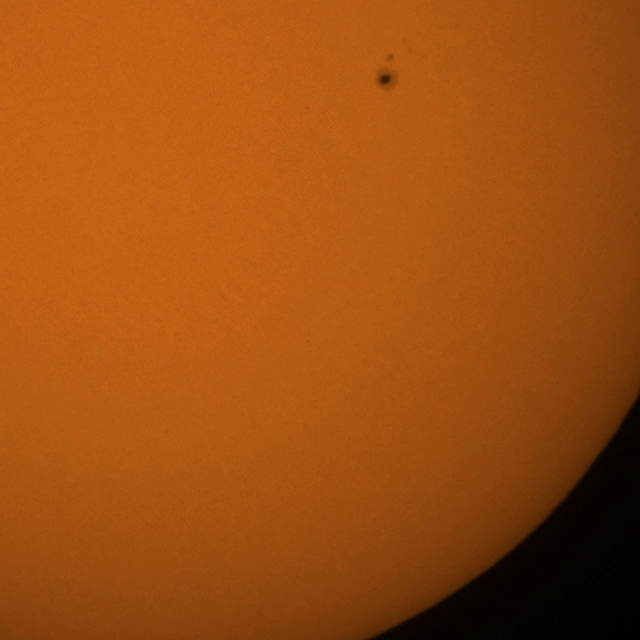sunspot: (375, 52, 397, 92), (384, 52, 396, 64)
